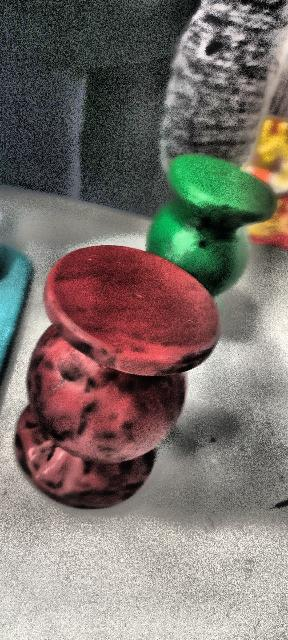green: (143, 152, 274, 301)
red: (15, 241, 219, 510)
